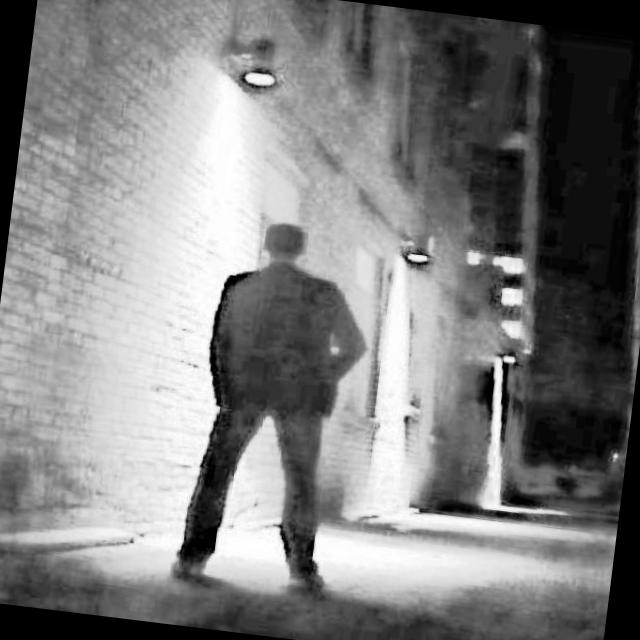Person: (160, 201, 388, 606)
